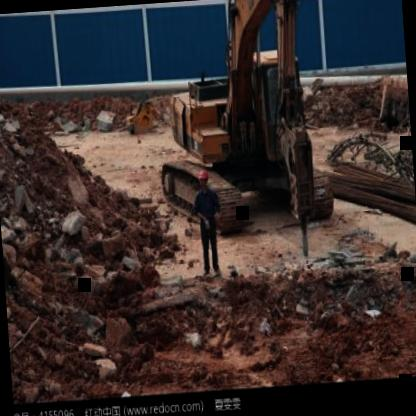helmet: (193, 165, 214, 193)
